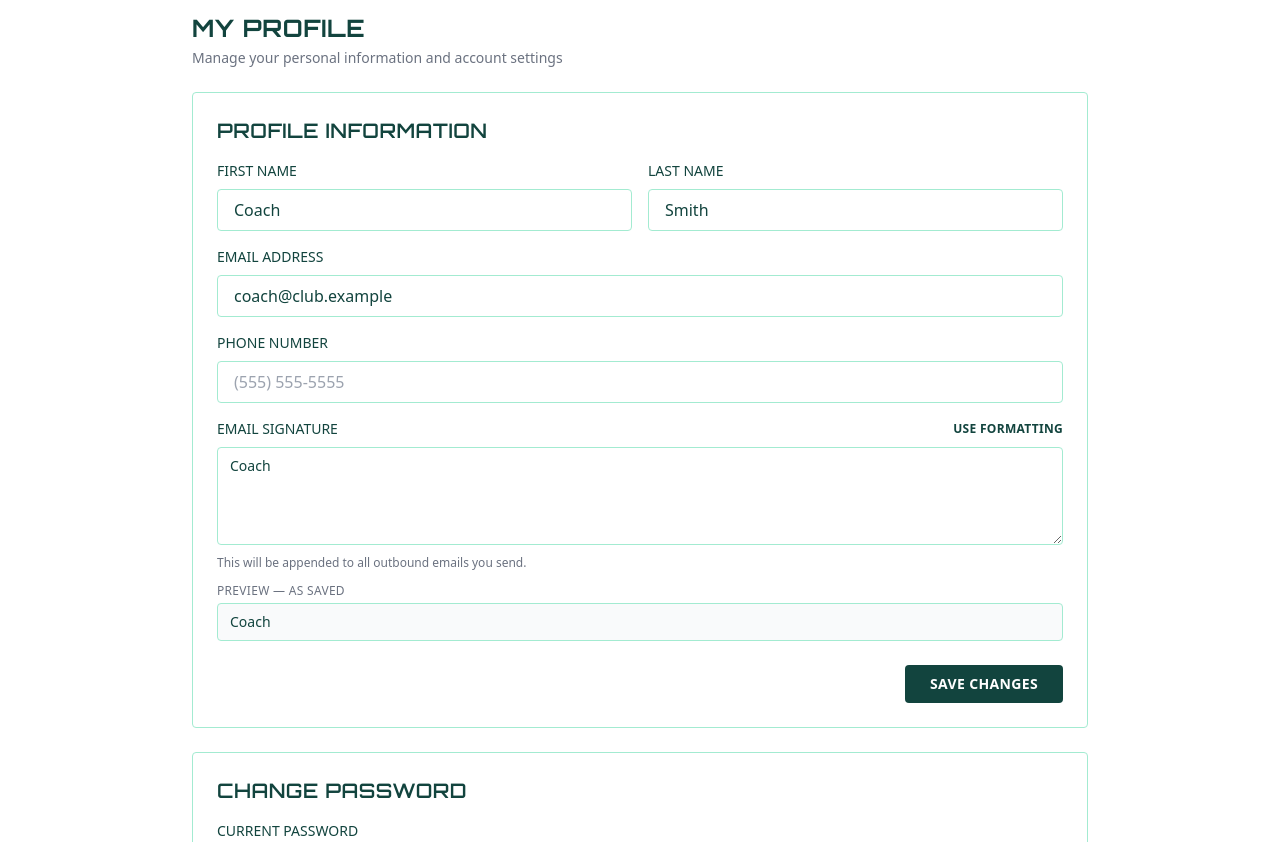
Test: UserProfile — email signature › the preview › says so while there are unsaved changes
Check: the text "unsaved changes" is not shown
Replace the text in the text box named "Email signature" with "Coach Smith": (640, 496) [217,447,1063,545]
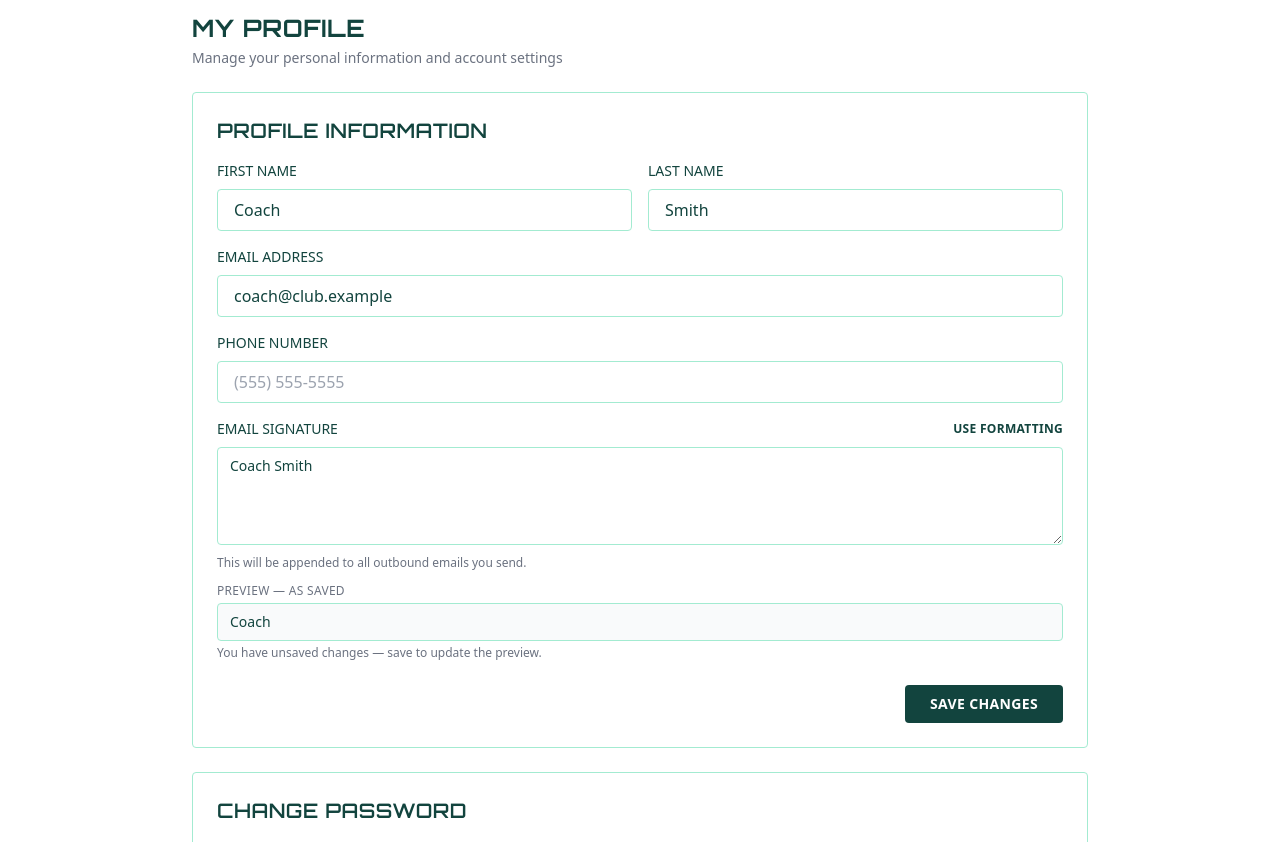
Check: the text "You have unsaved changes — save to update the preview." is shown, box [217,644,542,661]
